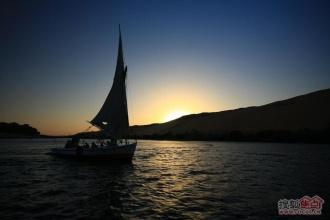fanchuan: (46, 19, 138, 163)
